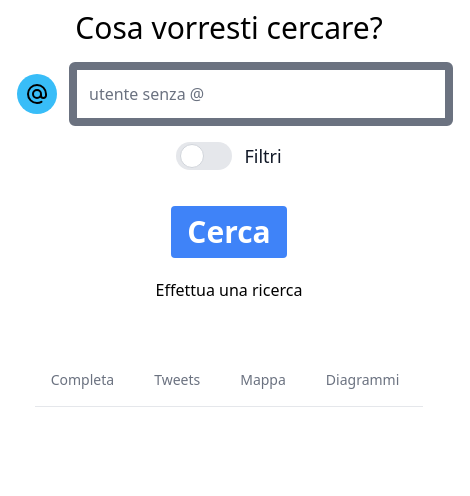
Test: SearchForm component › should allow keyword search of tweets
Click the button with test id "^typeSearchToggle$" at (37, 94), box [17,74,57,114]
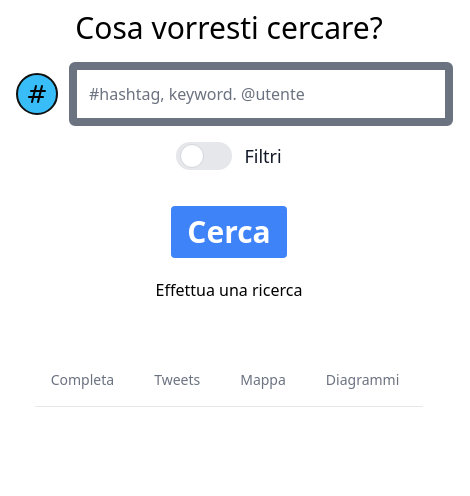
Type "meloni" into the field with placeholder "#hashtag, keyword. @utente" at (261, 94), box [69,62,453,126]
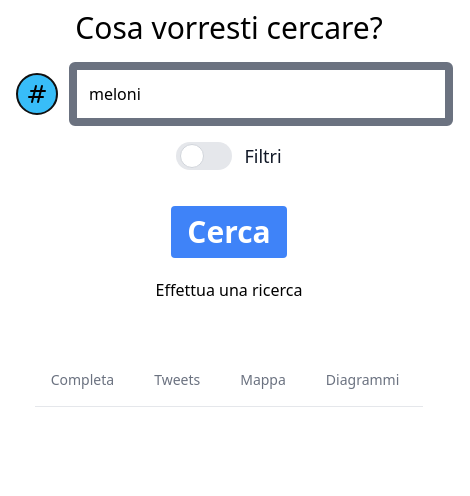
Click the button "Cerca" at (229, 232), box [171,206,287,258]
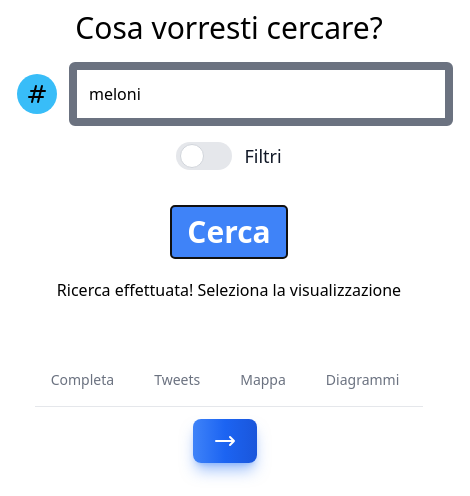
Check: the text "Ricerca effettuata! Seleziona la visualizzazione" is shown, box [57,279,401,301]
